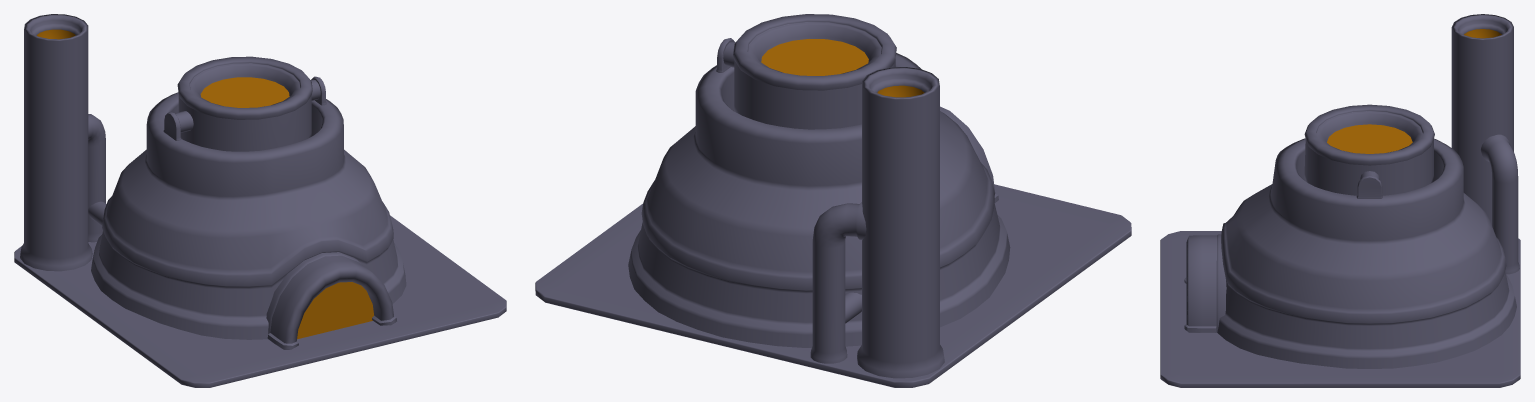
The model's file is Forge_V2.fbx.
3 renders of one model, left to right at view 1: azimuth 30°, elevation 25°; view 2: azimuth 150°, elevation 25°; view 3: azimuth 270°, elevation 25°, orthographic. The views are drawn at different scales.
Parts seen in each view (by area): view 1: Forge; view 2: Forge; view 3: Forge.
Boxes of the visible parts, x1,y1,x2,y2 form: Forge: (14,14,506,387); Forge: (535,14,1131,387); Forge: (1160,14,1520,387).
Size of the model in its own units: 14.57 by 10 by 14.57.
